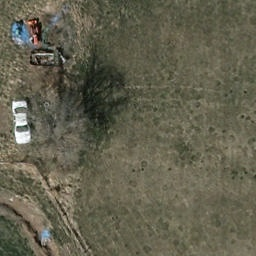car: (12, 100, 32, 143)
